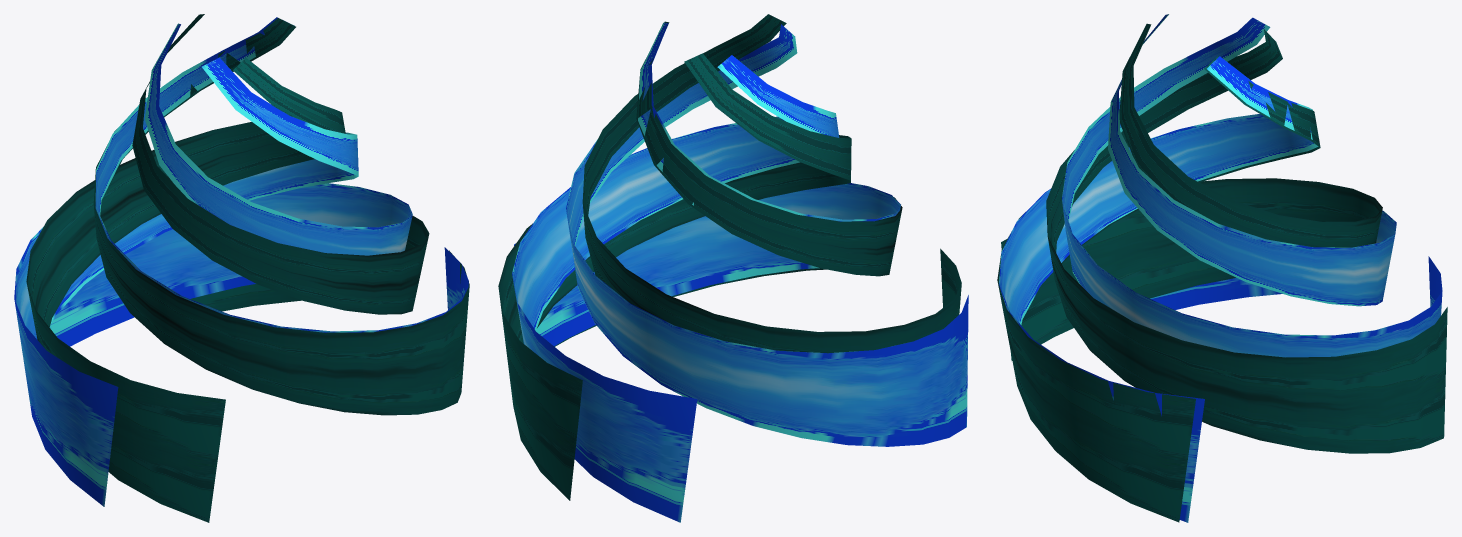
The model's file is emls_skill_1.fbx.
3 views of the same model, side by side, from view 1: azimuth 30°, elevation 25°; view 2: azimuth 150°, elevation 25°; view 3: azimuth 270°, elevation 25° (orthographic).
Parts seen in each view (by area): view 1: juji2_black, juji1_black, juji3, juji2, juji3_black, juji1; view 2: juji2, juji3, juji3_black, juji2_black, juji1, juji1_black; view 3: juji3_black, juji2_black, juji1_black, juji1, juji2, juji3.
Part boxes in pixels (x1,y1,x2,y2): juji2_black: (26, 58, 345, 522); juji1_black: (93, 18, 469, 415); juji3: (49, 23, 412, 346); juji2: (14, 57, 358, 506); juji3_black: (132, 14, 429, 314); juji1: (95, 17, 468, 332); juji2: (566, 24, 968, 446); juji3: (512, 55, 839, 522); juji3_black: (498, 53, 851, 500); juji2_black: (582, 14, 961, 353); juji1: (514, 22, 900, 346); juji1_black: (554, 21, 902, 346); juji3_black: (1046, 29, 1447, 453); juji2_black: (1001, 23, 1382, 360); juji1_black: (997, 56, 1320, 522); juji1: (999, 56, 1318, 522); juji2: (1108, 14, 1396, 309); juji3: (1062, 17, 1442, 357).
Bounding box in the file's own units: 13.71 × 12.35 × 12.95.
